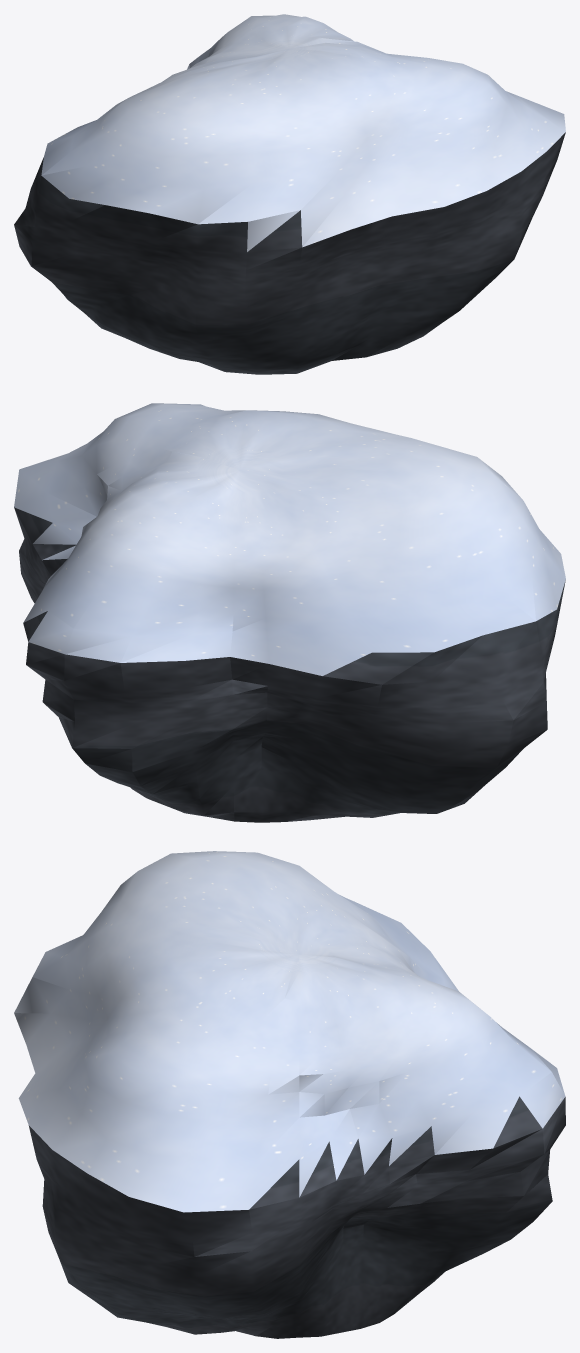
The model's file is SM_Snow_Rock_A.glb.
The picture shows the model from 3 angles, top to bottom: view 1: azimuth 30°, elevation 25°; view 2: azimuth 150°, elevation 25°; view 3: azimuth 270°, elevation 25°; orthographic projection. The views are drawn at different scales.
Parts seen in each view (by area): view 1: SM_Snow_Rock_A; view 2: SM_Snow_Rock_A; view 3: SM_Snow_Rock_A.
Boxes of the visible parts, x1,y1,x2,y2 form: SM_Snow_Rock_A: (14,14,565,374); SM_Snow_Rock_A: (14,403,565,822); SM_Snow_Rock_A: (14,851,565,1338).
Bounding box in the file's own units: 0.9179 × 0.4754 × 0.6989.
2 materials, 2 textured.
